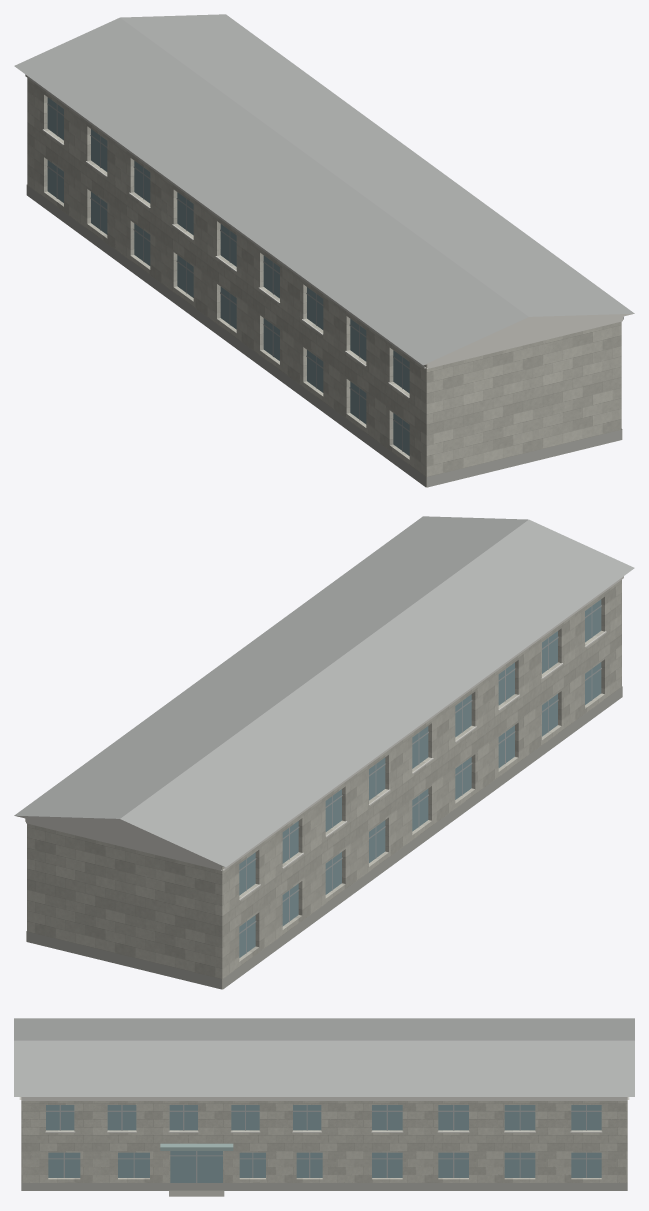
3 renders of one model, top to bottom at view 1: azimuth 30°, elevation 25°; view 2: azimuth 150°, elevation 25°; view 3: azimuth 270°, elevation 25°, orthographic. The views are drawn at different scales.
Parts seen in each view (by area): view 1: rotc__roofAccent, rotc__wall, rotc__glass, rotc__base, rotc__trim, rotc__frame; view 2: rotc__roofAccent, rotc__wall, rotc__glass, rotc__base, rotc__trim, rotc__frame; view 3: rotc__roofAccent, rotc__wall, rotc__glass, rotc__base, rotc__trim, rotc__frame, rotc__canopy, rotc__entranceThreshold_0.
Part boxes in pixels (left/top/right/bottom): rotc__roofAccent: left=14, top=14, right=634, bottom=365; rotc__wall: left=27, top=78, right=621, bottom=487; rotc__glass: left=47, top=97, right=409, bottom=455; rotc__base: left=26, top=184, right=622, bottom=487; rotc__trim: left=25, top=74, right=634, bottom=398; rotc__frame: left=47, top=103, right=409, bottom=451; rotc__roofAccent: left=14, top=516, right=634, bottom=867; rotc__wall: left=27, top=580, right=621, bottom=989; rotc__glass: left=239, top=599, right=601, bottom=957; rotc__base: left=26, top=686, right=622, bottom=989; rotc__trim: left=14, top=576, right=623, bottom=900; rotc__frame: left=239, top=605, right=601, bottom=953; rotc__roofAccent: left=14, top=1018, right=634, bottom=1096; rotc__wall: left=21, top=1101, right=627, bottom=1182; rotc__glass: left=46, top=1105, right=601, bottom=1182; rotc__base: left=21, top=1183, right=627, bottom=1190; rotc__trim: left=19, top=1097, right=629, bottom=1132; rotc__frame: left=46, top=1105, right=601, bottom=1182; rotc__canopy: left=160, top=1143, right=233, bottom=1150; rotc__entranceThreshold_0: left=169, top=1190, right=224, bottom=1196.
Bounding box in the file's own units: 12.83 × 9.02 × 42.58.
Materials: 10 (1 with a texture image).
